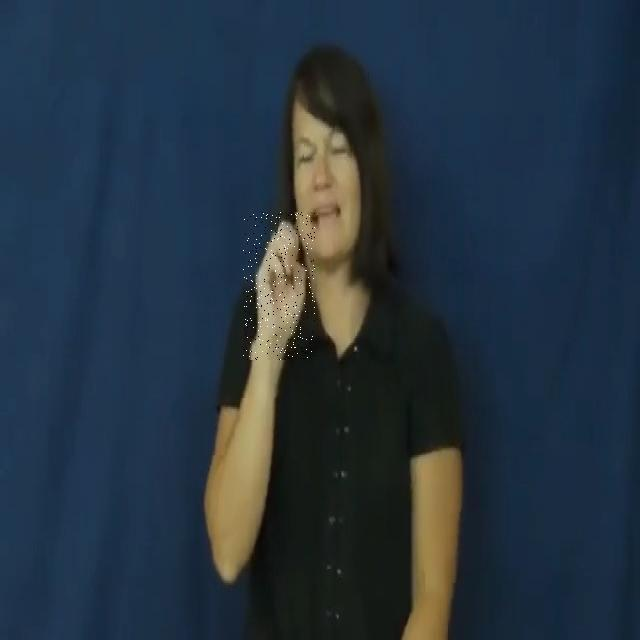hot: (243, 212, 316, 360)
